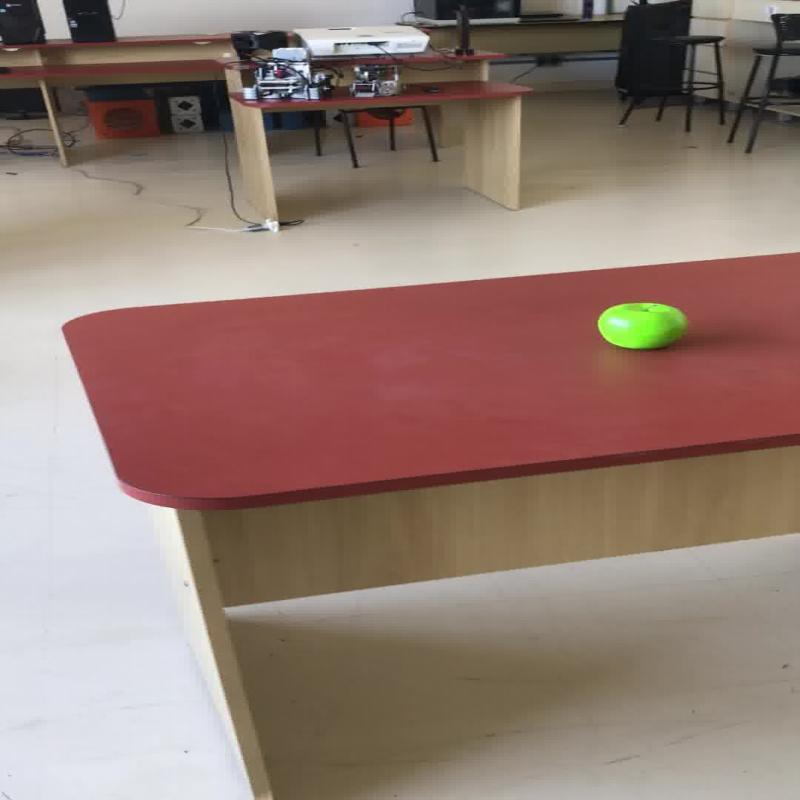apple: (595, 301, 686, 350)
